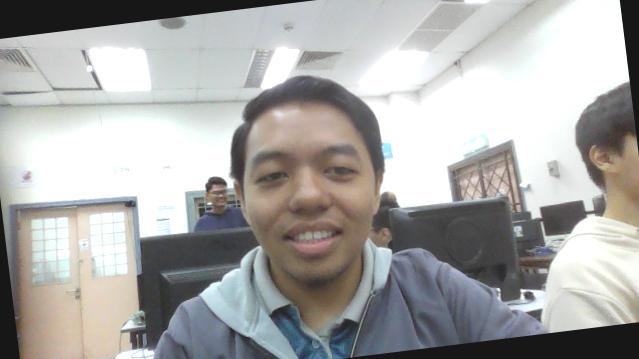senang: (213, 62, 402, 290)
